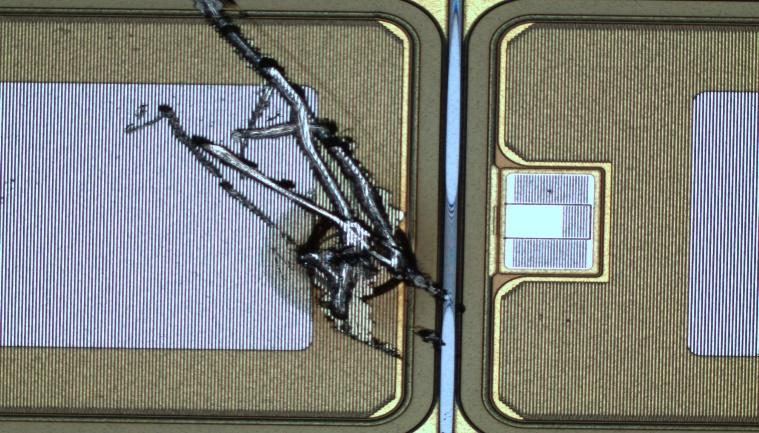SCRATCH: (121, 1, 458, 371)
